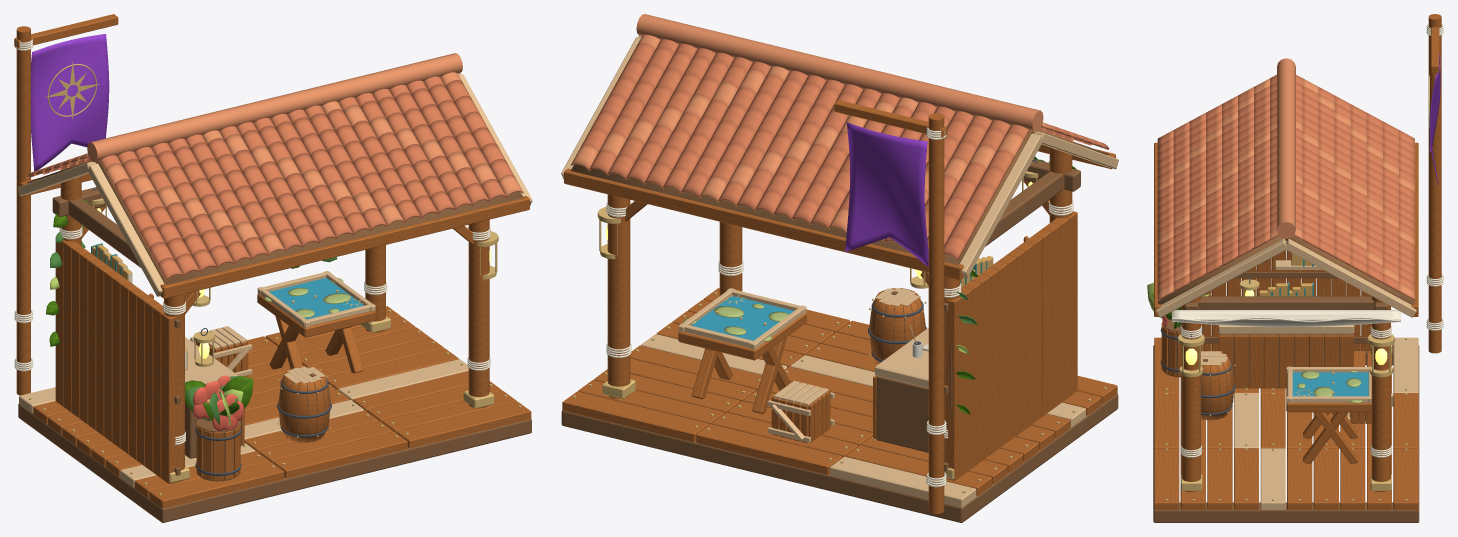
The model's file is welcome-harbor-v1-r2-batched.glb.
The picture shows the model from 3 angles, left to right: view 1: azimuth 30°, elevation 25°; view 2: azimuth 150°, elevation 25°; view 3: azimuth 270°, elevation 25°; orthographic projection. The views are drawn at different scales.
Parts seen in each view (by area): view 1: Batched_33_WelcomeHarbor_PBR_Honey_Timber, Batched_29_WelcomeHarbor_PBR_Terracotta, Batched_28_WelcomeHarbor_PBR_Terracotta_Sun, Batched_35_WelcomeHarbor_PBR_Dark_Joinery, Batched_31_WelcomeHarbor_PBR_Violet_Cloth, Batched_25_WelcomeHarbor_PBR_Honey_Timber, Batched_8_WelcomeHarbor_PBR_Honey_Timber, Batched_34_WelcomeHarbor_PBR_Pale_Cut_Timber, Batched_26_WelcomeHarbor_PBR_Pale_Cut_Timber, Batched_14_WelcomeHarbor_PBR_Honey_Timber, Batched_30_WelcomeHarbor_PBR_Dark_Joinery, Batched_13_WelcomeHarbor_PBR_Pale_Cut_Timber (+13 smaller); view 2: Batched_33_WelcomeHarbor_PBR_Honey_Timber, Batched_29_WelcomeHarbor_PBR_Terracotta, Batched_28_WelcomeHarbor_PBR_Terracotta_Sun, Batched_35_WelcomeHarbor_PBR_Dark_Joinery, Batched_31_WelcomeHarbor_PBR_Violet_Cloth, Batched_25_WelcomeHarbor_PBR_Honey_Timber, Batched_34_WelcomeHarbor_PBR_Pale_Cut_Timber, Batched_14_WelcomeHarbor_PBR_Honey_Timber, Batched_26_WelcomeHarbor_PBR_Pale_Cut_Timber, Batched_8_WelcomeHarbor_PBR_Honey_Timber, Batched_13_WelcomeHarbor_PBR_Pale_Cut_Timber, Batched_17_WelcomeHarbor_PBR_Dark_Joinery (+8 smaller); view 3: Batched_29_WelcomeHarbor_PBR_Terracotta, Batched_33_WelcomeHarbor_PBR_Honey_Timber, Batched_28_WelcomeHarbor_PBR_Terracotta_Sun, Batched_35_WelcomeHarbor_PBR_Dark_Joinery, Batched_14_WelcomeHarbor_PBR_Honey_Timber, Batched_34_WelcomeHarbor_PBR_Pale_Cut_Timber, Batched_24_WelcomeHarbor_PBR_Cream_Linen, Batched_26_WelcomeHarbor_PBR_Pale_Cut_Timber, Batched_8_WelcomeHarbor_PBR_Honey_Timber, Batched_13_WelcomeHarbor_PBR_Pale_Cut_Timber, Batched_25_WelcomeHarbor_PBR_Honey_Timber, Batched_20_WelcomeHarbor_PBR_Chart_Sea (+12 smaller).
Boxes of the visible parts, x1=… form: Batched_33_WelcomeHarbor_PBR_Honey_Timber: x1=16, y1=26, x2=531, y2=508; Batched_29_WelcomeHarbor_PBR_Terracotta: x1=26, y1=76, x2=514, y2=280; Batched_28_WelcomeHarbor_PBR_Terracotta_Sun: x1=77, y1=53, x2=523, y2=255; Batched_35_WelcomeHarbor_PBR_Dark_Joinery: x1=18, y1=187, x2=531, y2=522; Batched_31_WelcomeHarbor_PBR_Violet_Cloth: x1=31, y1=34, x2=109, y2=171; Batched_25_WelcomeHarbor_PBR_Honey_Timber: x1=14, y1=14, x2=529, y2=298; Batched_8_WelcomeHarbor_PBR_Honey_Timber: x1=194, y1=329, x2=330, y2=480; Batched_34_WelcomeHarbor_PBR_Pale_Cut_Timber: x1=19, y1=359, x2=468, y2=487; Batched_26_WelcomeHarbor_PBR_Pale_Cut_Timber: x1=17, y1=73, x2=532, y2=296; Batched_14_WelcomeHarbor_PBR_Honey_Timber: x1=149, y1=293, x2=375, y2=445; Batched_30_WelcomeHarbor_PBR_Dark_Joinery: x1=27, y1=160, x2=523, y2=284; Batched_13_WelcomeHarbor_PBR_Pale_Cut_Timber: x1=185, y1=271, x2=375, y2=384; Batched_33_WelcomeHarbor_PBR_Honey_Timber: x1=562, y1=113, x2=1117, y2=513; Batched_29_WelcomeHarbor_PBR_Terracotta: x1=580, y1=39, x2=1108, y2=260; Batched_28_WelcomeHarbor_PBR_Terracotta_Sun: x1=571, y1=14, x2=1053, y2=232; Batched_35_WelcomeHarbor_PBR_Dark_Joinery: x1=561, y1=159, x2=1118, y2=522; Batched_31_WelcomeHarbor_PBR_Violet_Cloth: x1=845, y1=122, x2=928, y2=267; Batched_25_WelcomeHarbor_PBR_Honey_Timber: x1=564, y1=100, x2=1115, y2=280; Batched_34_WelcomeHarbor_PBR_Pale_Cut_Timber: x1=641, y1=334, x2=1085, y2=507; Batched_14_WelcomeHarbor_PBR_Honey_Timber: x1=678, y1=236, x2=1028, y2=438; Batched_26_WelcomeHarbor_PBR_Pale_Cut_Timber: x1=561, y1=35, x2=1118, y2=277; Batched_8_WelcomeHarbor_PBR_Honey_Timber: x1=771, y1=288, x2=925, y2=443; Batched_13_WelcomeHarbor_PBR_Pale_Cut_Timber: x1=678, y1=288, x2=928, y2=388; Batched_17_WelcomeHarbor_PBR_Dark_Joinery: x1=876, y1=376, x2=928, y2=452; Batched_29_WelcomeHarbor_PBR_Terracotta: x1=1157, y1=74, x2=1414, y2=293; Batched_33_WelcomeHarbor_PBR_Honey_Timber: x1=1154, y1=14, x2=1441, y2=509; Batched_28_WelcomeHarbor_PBR_Terracotta_Sun: x1=1157, y1=58, x2=1414, y2=300; Batched_35_WelcomeHarbor_PBR_Dark_Joinery: x1=1153, y1=270, x2=1419, y2=522; Batched_14_WelcomeHarbor_PBR_Honey_Timber: x1=1218, y1=260, x2=1371, y2=463; Batched_34_WelcomeHarbor_PBR_Pale_Cut_Timber: x1=1211, y1=337, x2=1418, y2=509; Batched_24_WelcomeHarbor_PBR_Cream_Linen: x1=1171, y1=310, x2=1400, y2=326; Batched_26_WelcomeHarbor_PBR_Pale_Cut_Timber: x1=1156, y1=239, x2=1416, y2=317; Batched_8_WelcomeHarbor_PBR_Honey_Timber: x1=1161, y1=322, x2=1371, y2=423; Batched_13_WelcomeHarbor_PBR_Pale_Cut_Timber: x1=1218, y1=259, x2=1371, y2=402; Batched_25_WelcomeHarbor_PBR_Honey_Timber: x1=1154, y1=27, x2=1439, y2=316; Batched_20_WelcomeHarbor_PBR_Chart_Sea: x1=1292, y1=372, x2=1368, y2=396.
Size of the model in its own units: 6.36 by 6.06 by 4.68.
Materials: 21 (2 with a texture image).
